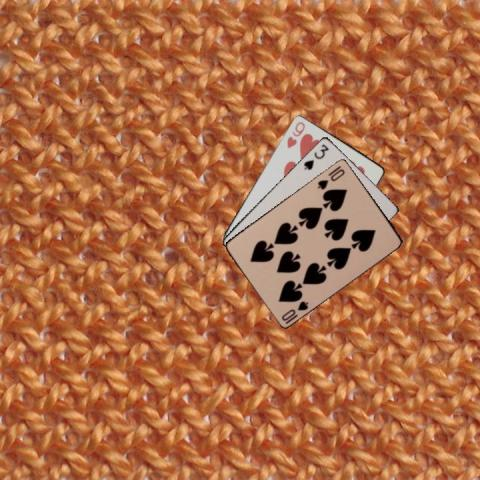10s: (315, 165, 346, 191), (279, 297, 310, 322)
3s: (301, 141, 330, 171)
9h: (284, 119, 307, 149)
